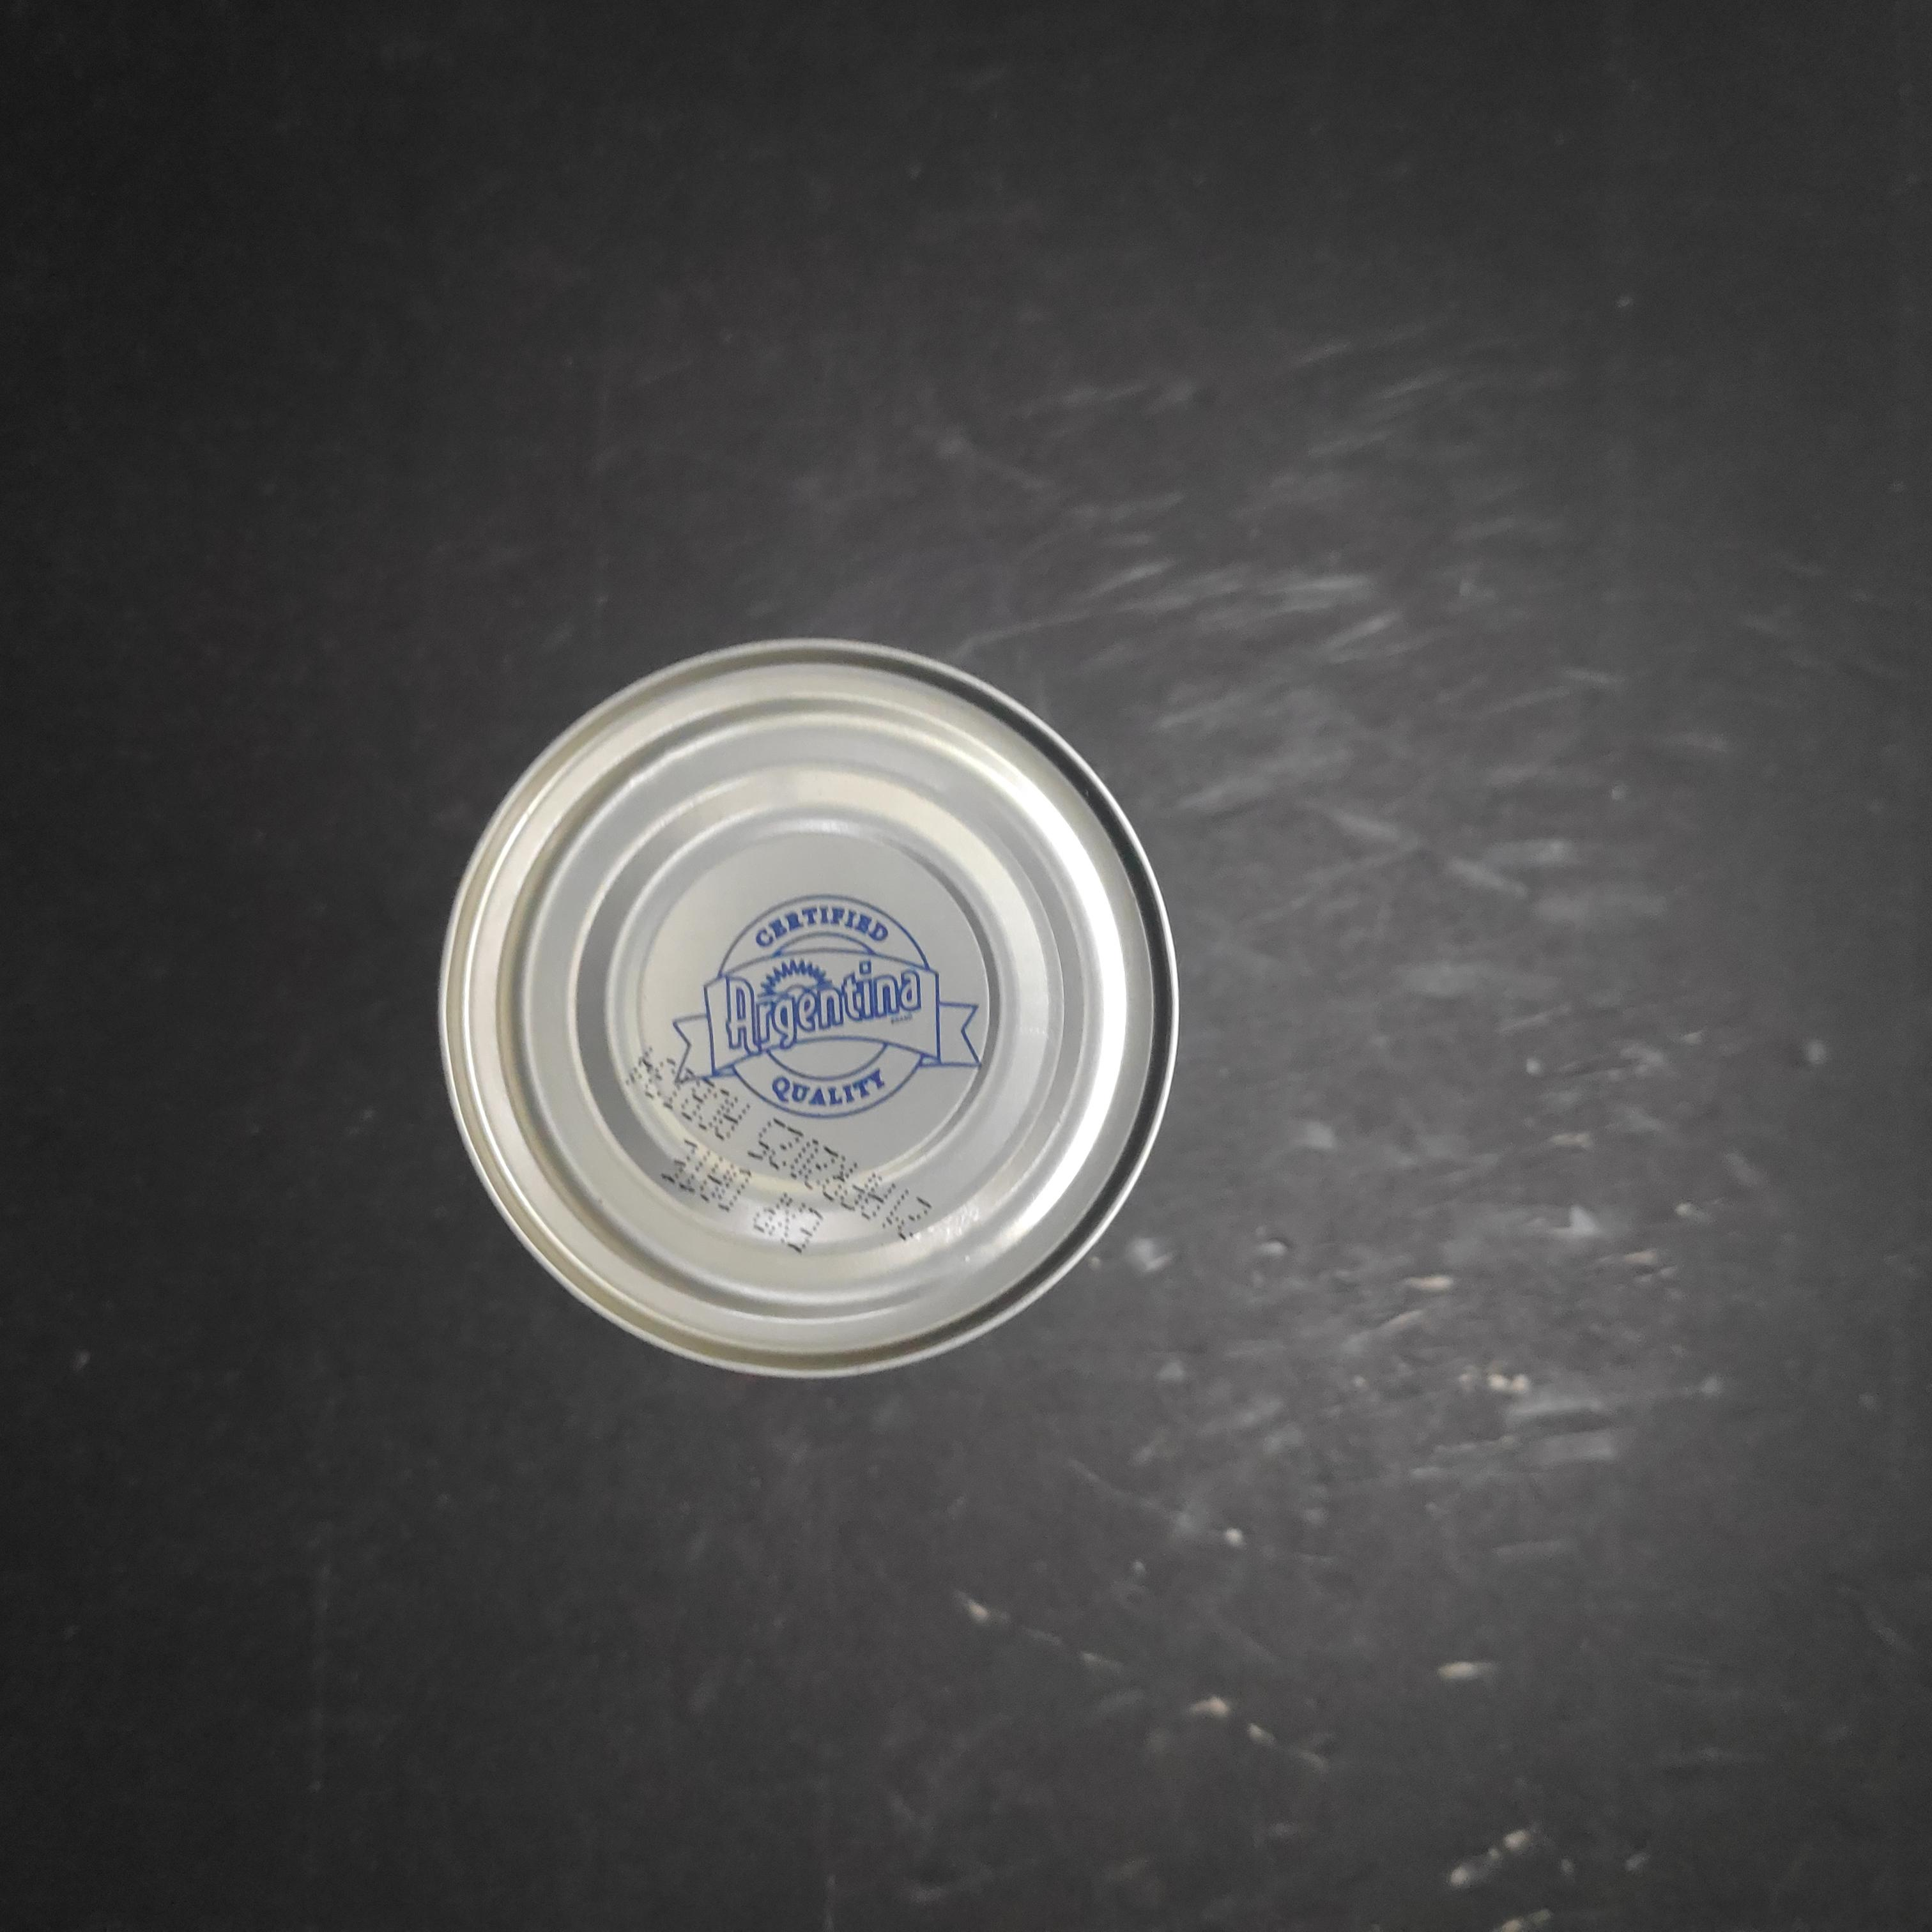No defect: (435, 633, 1192, 1394)
